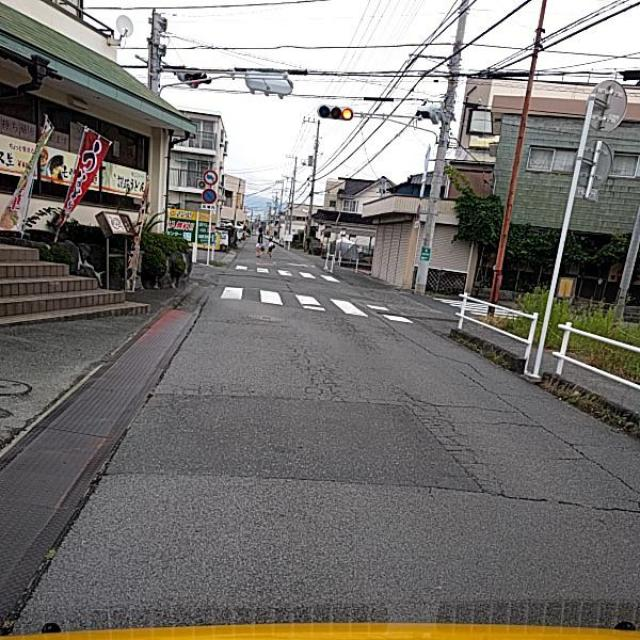Crack: (284, 349, 579, 549)
